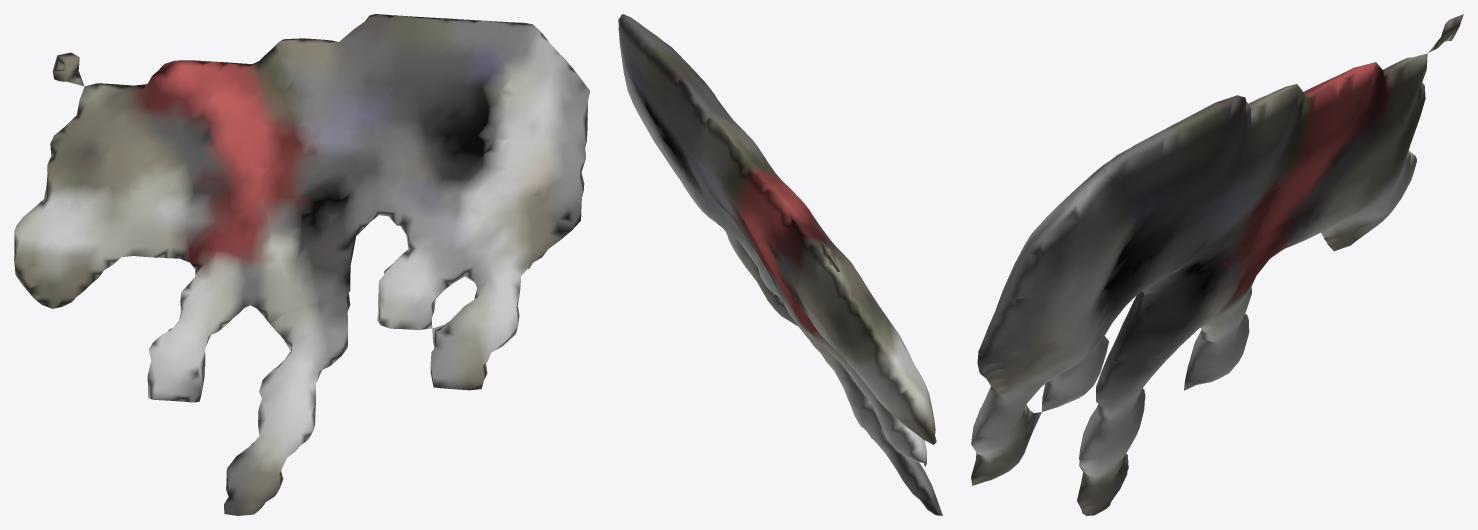
Rendered from soviet_attack_dog.glb.
3 renders of one model, left to right at view 1: azimuth 30°, elevation 25°; view 2: azimuth 150°, elevation 25°; view 3: azimuth 270°, elevation 25°, orthographic. The views are drawn at different scales.
Visible parts, largest first — view 1: soviet_attack_dog; view 2: soviet_attack_dog; view 3: soviet_attack_dog.
Boxes of the visible parts, x1,y1,x2,y2 form: soviet_attack_dog: [14, 14, 589, 515]; soviet_attack_dog: [618, 14, 942, 515]; soviet_attack_dog: [971, 14, 1463, 515].
Size of the model in its own units: 1.96 by 1.77 by 1.48.
